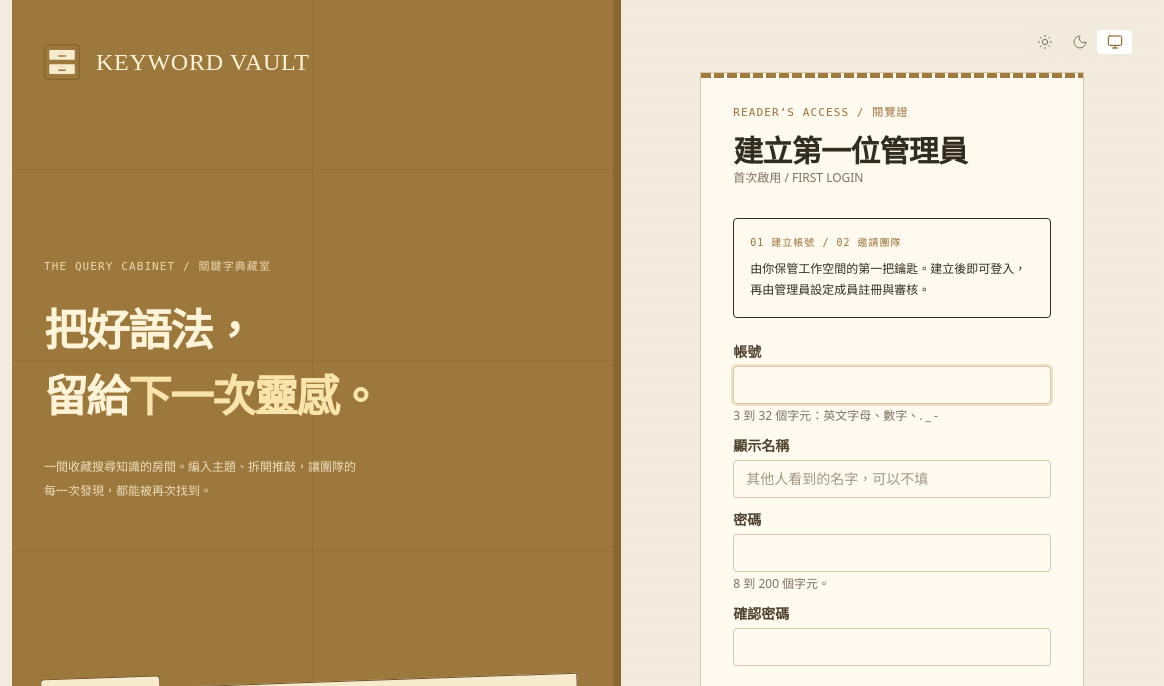
conflict closes setup even if refreshing state is unavailable
The width and height of the screenshot is (1164, 686).
Type "nat" into the field labelled "帳號" at (892, 385), box [733,366,1051,404]
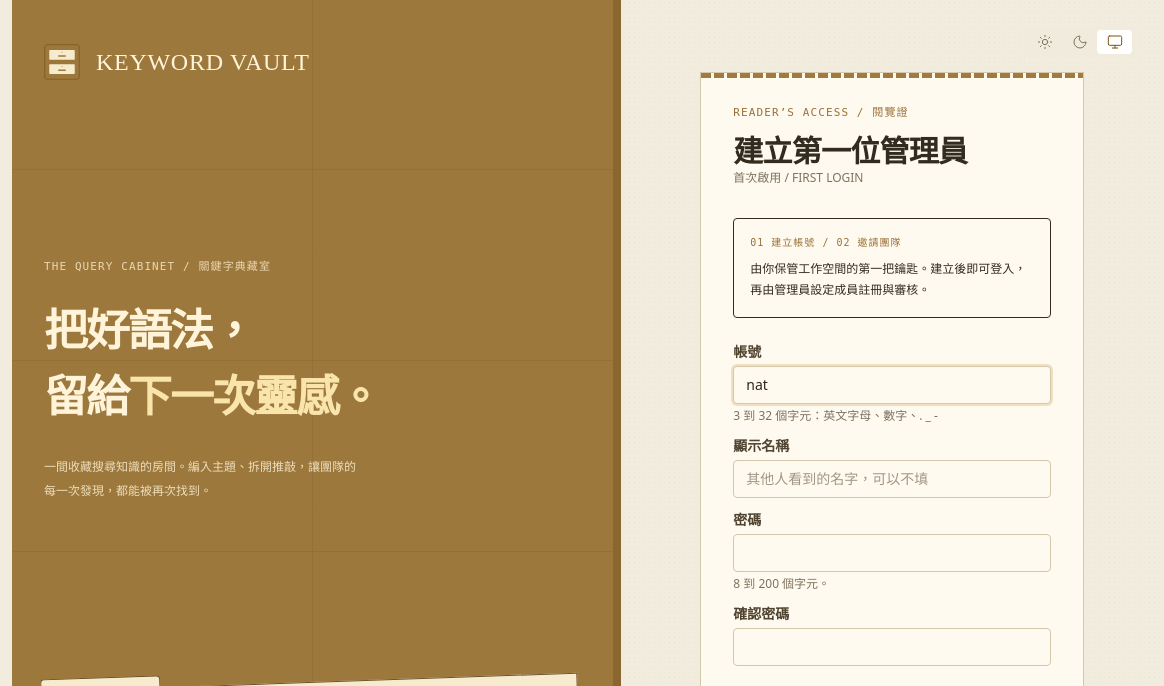
Type "correct horse" into the password field labelled "密碼" at (892, 553), box [733,534,1051,572]
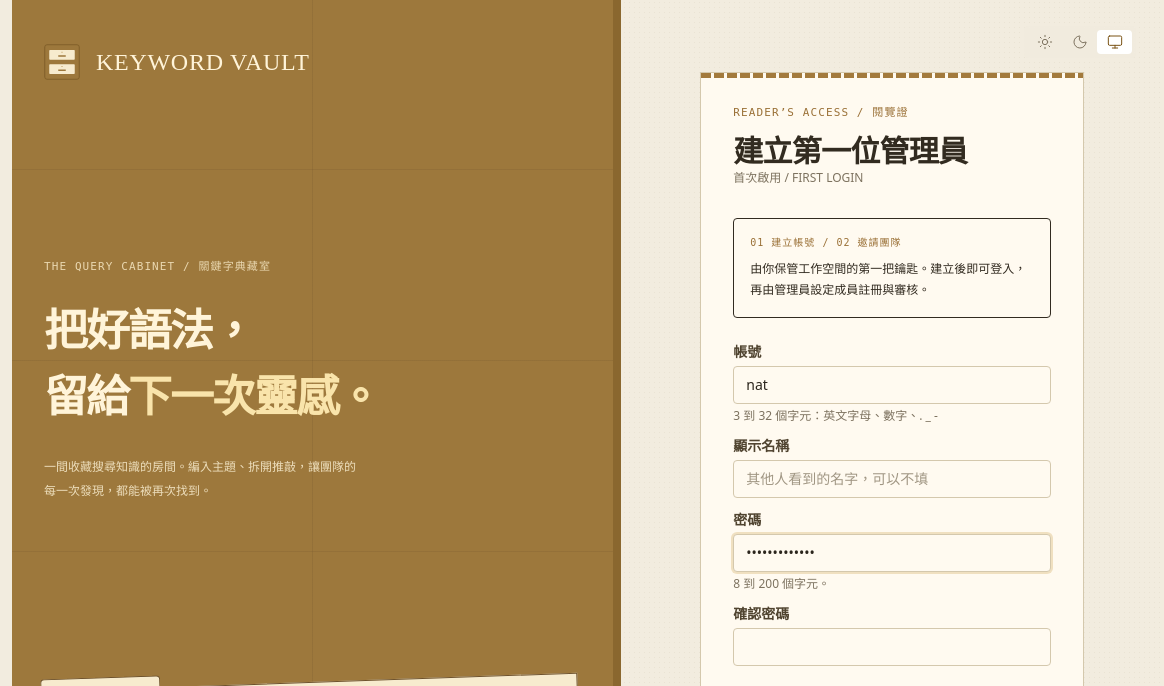
Type "correct horse" into the password field labelled "確認密碼" at (892, 647), box [733,628,1051,666]
(page scrolled)
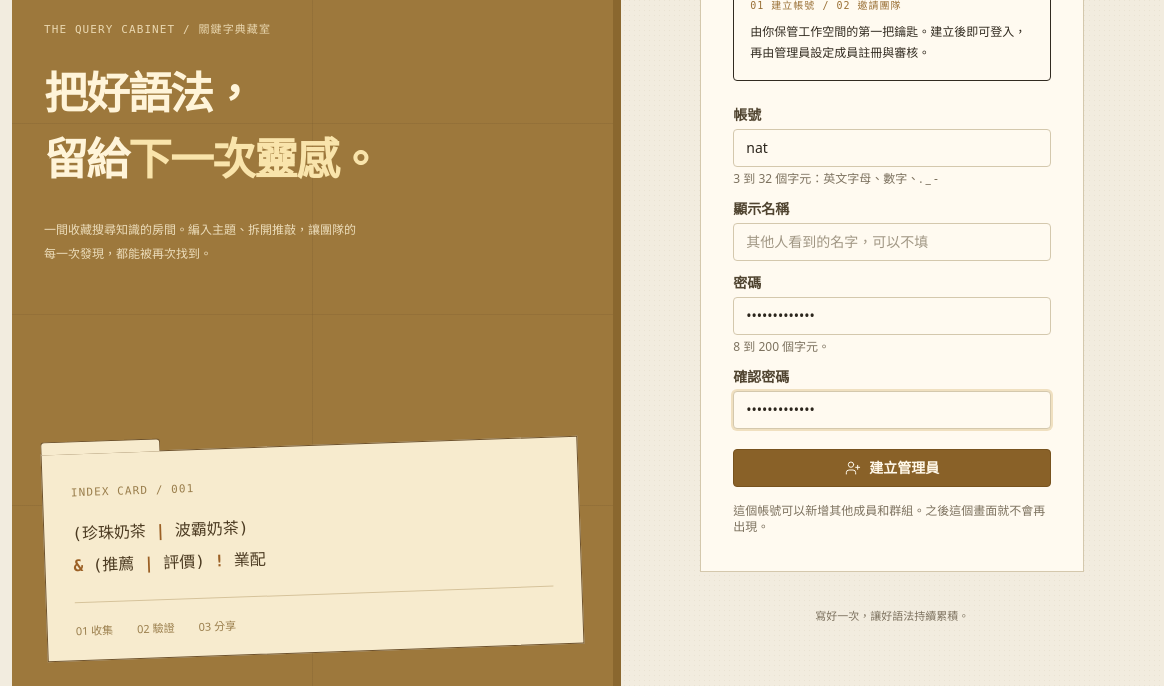
Click the button "建立管理員" at (892, 468), box [733,449,1051,487]
(page scrolled)
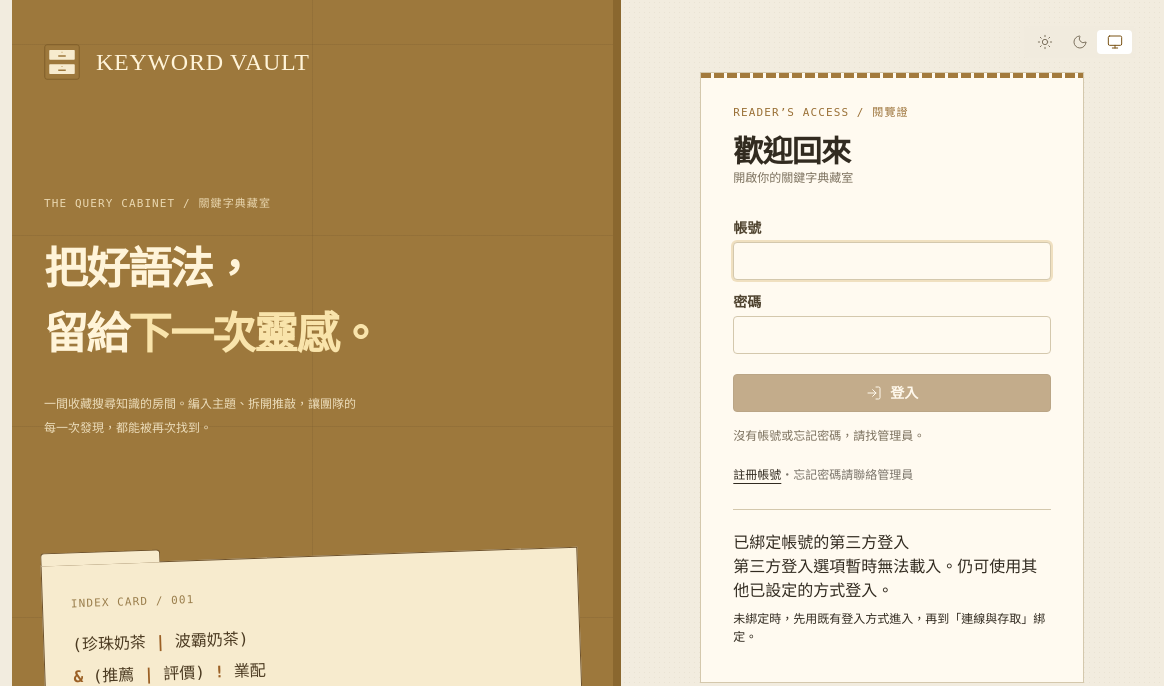
Result: the button "登入" is shown at [733,374,1051,412]
Result: the label labelled "確認密碼" is gone
